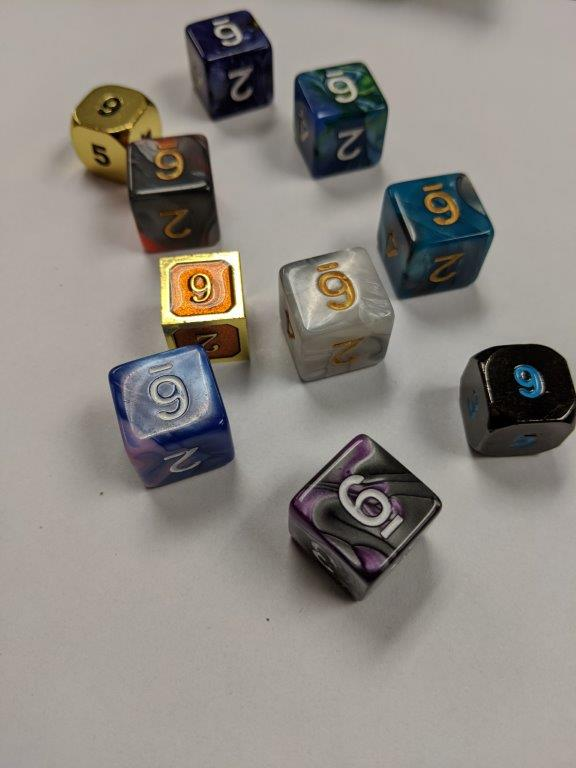d6-6: (286, 432, 444, 600), (105, 345, 239, 489), (278, 245, 398, 387), (382, 170, 493, 296), (456, 343, 576, 458), (289, 60, 388, 177), (129, 133, 223, 255), (153, 250, 249, 361), (184, 7, 275, 120), (70, 81, 160, 168)
